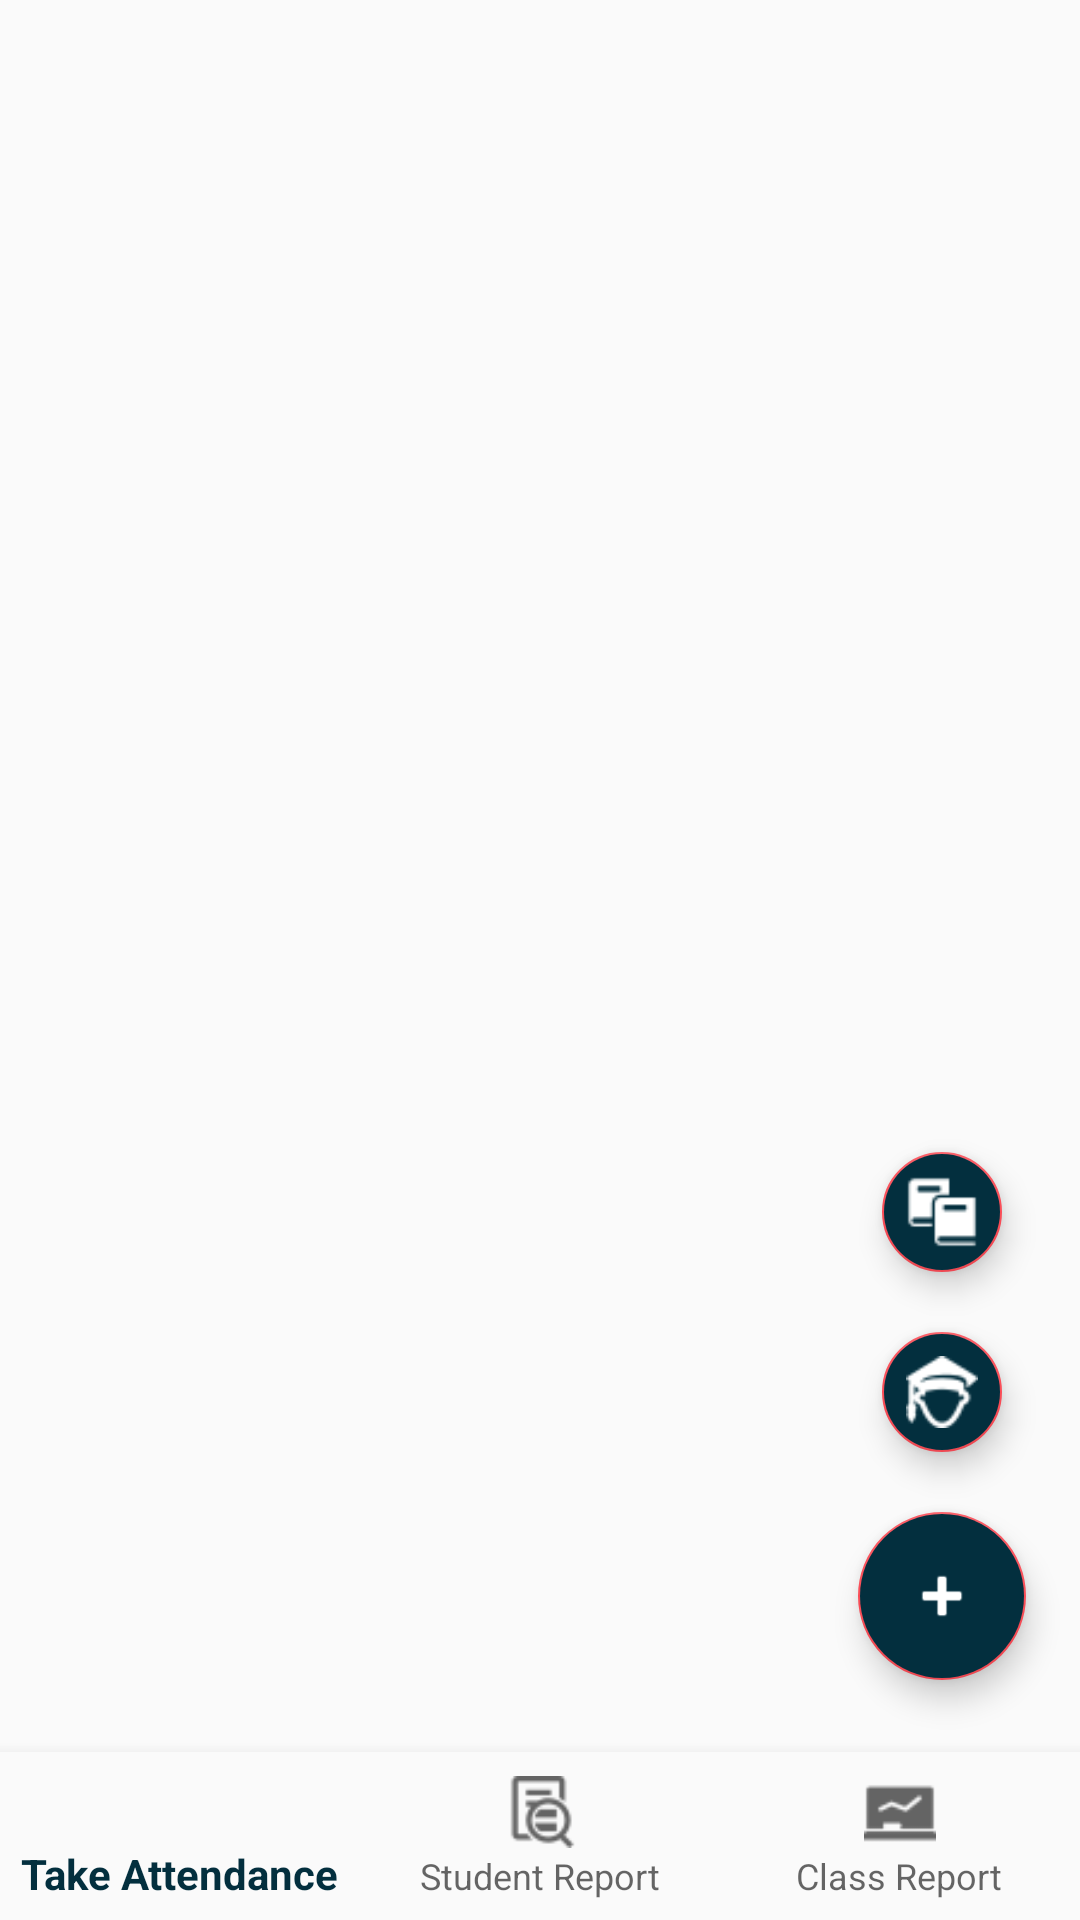

Where to tap for icons on this 1080w x 1920h app screen, as (x,y):
add: (942,1596)
student: (942,1392)
subjects: (942,1212)
